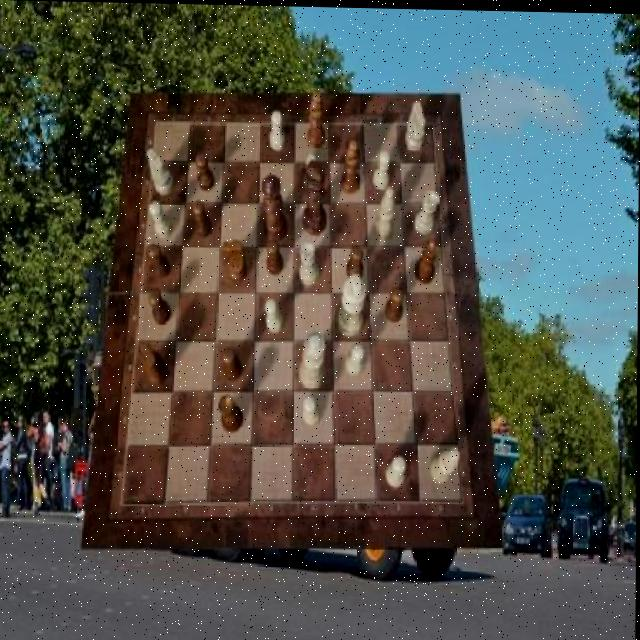bishop: (307, 90, 325, 148), (342, 138, 360, 193)
black-bishop: (303, 158, 328, 234)
black-king: (141, 341, 169, 385), (223, 239, 248, 282)
black-knight: (147, 243, 172, 279), (149, 289, 172, 325), (222, 347, 244, 381), (193, 199, 213, 236), (196, 153, 215, 191), (267, 239, 285, 275), (347, 245, 365, 280), (386, 286, 404, 320)
black-pawn: (262, 174, 288, 244)
black-queen: (415, 237, 439, 282), (219, 393, 244, 431)
black-rook: (430, 445, 460, 483), (376, 185, 396, 240)
white-bishop: (338, 272, 367, 336)
white-king: (148, 149, 176, 195), (405, 101, 426, 150)
white-knight: (150, 201, 173, 239), (374, 150, 392, 189), (386, 455, 407, 487), (265, 297, 284, 332), (270, 109, 286, 150), (346, 343, 365, 376), (305, 152, 321, 189), (304, 393, 321, 426)
white-pawn: (299, 330, 327, 388)
white-queen: (415, 187, 440, 233), (300, 241, 320, 285)
